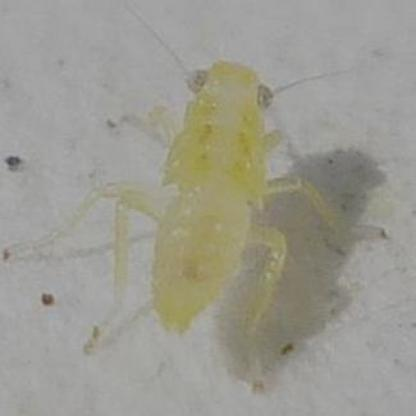green-leafhopper: (146, 49, 284, 336)
